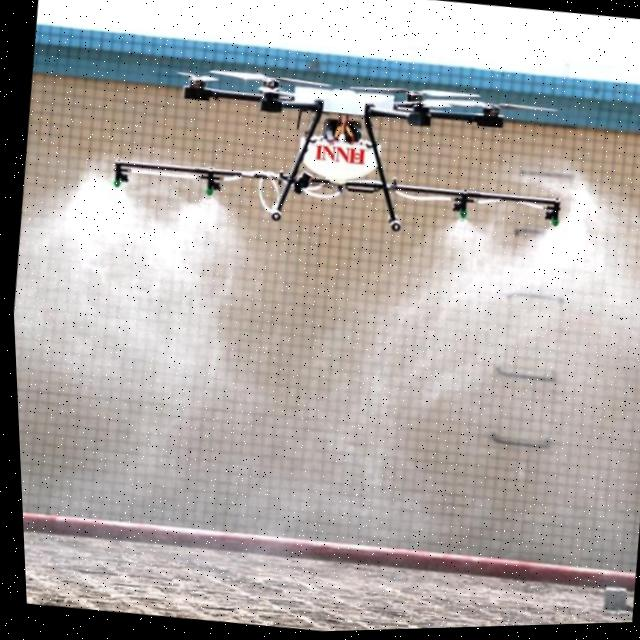drones: (77, 0, 616, 315)
